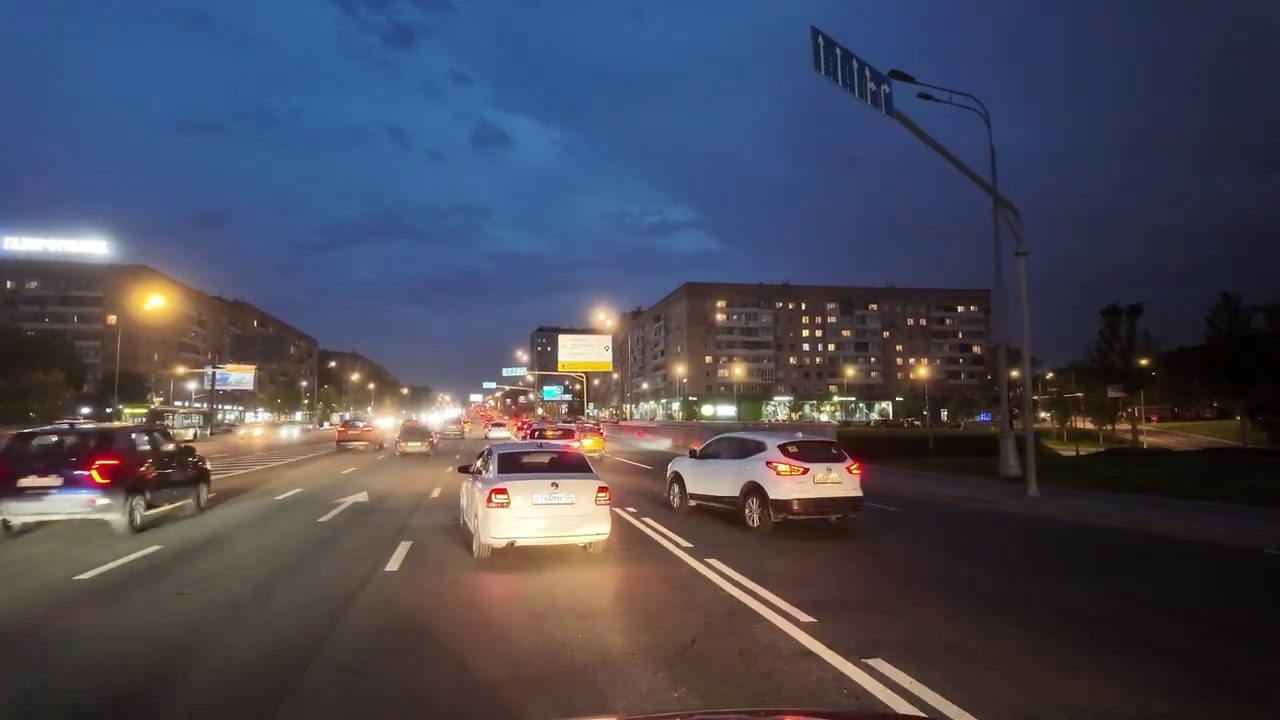acesa: (129, 284, 175, 325), (591, 305, 620, 333)
apagada: (890, 55, 948, 108)
